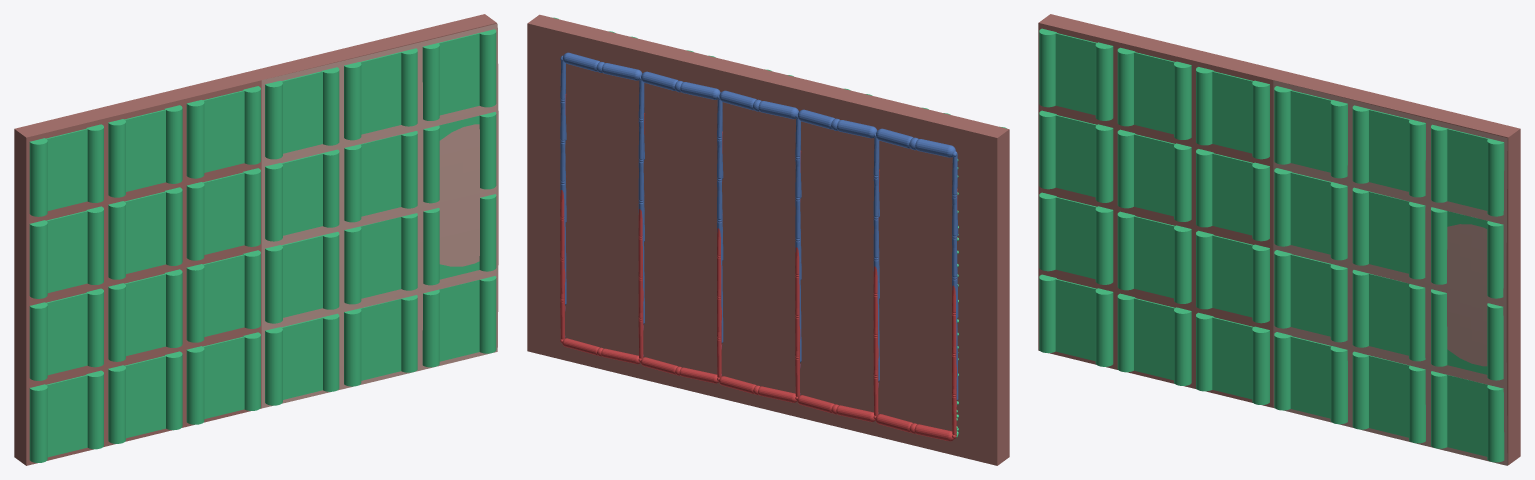
File: dranmar_icg_arrival.glb
3 renders of one model, left to right at view 1: azimuth 30°, elevation 25°; view 2: azimuth 150°, elevation 25°; view 3: azimuth 330°, elevation 25°, orthographic.
Parts seen in each view (by area): view 1: TissueBulk, TissueSurface, Overlay_11, Overlay_10, Overlay_9, Overlay_4, Overlay_7, Overlay_1, Overlay_5, Overlay_6, Overlay_8, Overlay_0 (+14 smaller); view 2: TissueBulk, VT0, VT1, VT2, VT3, VT4, AT0, AT1, AT2, AT3, AT4, VB05 (+5 smaller); view 3: TissueBulk, TissueSurface, Overlay_4, Overlay_5, Overlay_1, Overlay_2, Overlay_3, Overlay_6, Overlay_0, Overlay_7, Overlay_10, Overlay_11 (+14 smaller).
Part boxes in pixels (x1,y1,x2,y2): TissueBulk: (14,14,496,465); TissueSurface: (261,23,498,408); Overlay_11: (186,86,260,178); Overlay_10: (186,168,260,260); Overlay_9: (186,250,260,342); Overlay_4: (108,351,182,443); Overlay_7: (108,105,182,197); Overlay_1: (29,288,103,380); Overlay_5: (108,269,182,361); Overlay_6: (108,187,182,279); Overlay_8: (186,332,260,424); Overlay_0: (29,370,103,462); TissueBulk: (527,14,1009,465); VT0: (876,128,955,157); VT1: (797,109,877,138); VT2: (719,90,798,119); VT3: (641,71,720,99); VT4: (562,52,642,80); AT0: (875,414,953,441); AT1: (797,395,875,422); AT2: (719,376,796,402); AT3: (640,357,718,383); AT4: (562,338,640,364); VB05: (560,63,566,304); TissueBulk: (1038,14,1520,465); TissueSurface: (1273,80,1507,465); Overlay_4: (1117,293,1191,385); Overlay_5: (1117,211,1191,303); Overlay_1: (1039,192,1113,284); Overlay_2: (1039,110,1113,202); Overlay_3: (1039,28,1113,120); Overlay_6: (1117,129,1191,221); Overlay_0: (1039,274,1113,366); Overlay_7: (1117,47,1191,139); Overlay_10: (1196,149,1269,241); Overlay_11: (1196,67,1269,159).
Size of the model in its own units: 0.18 by 0.12 by 0.0168.
